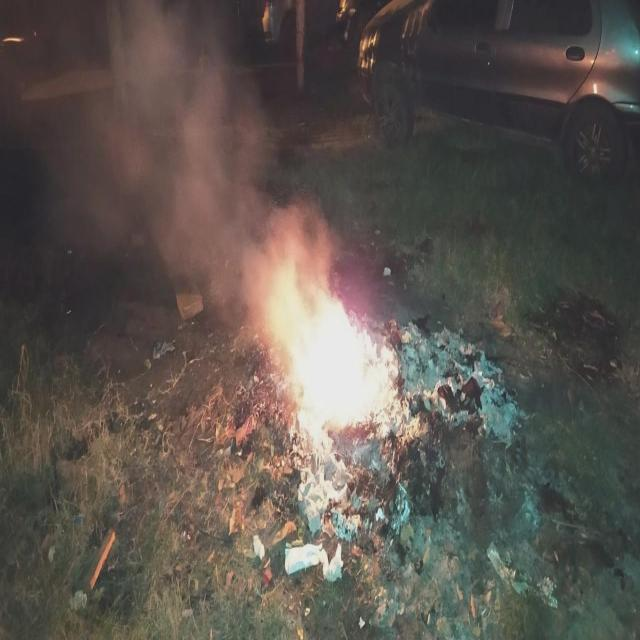Fire: (276, 266, 384, 432)
Smoke: (48, 1, 296, 258)
